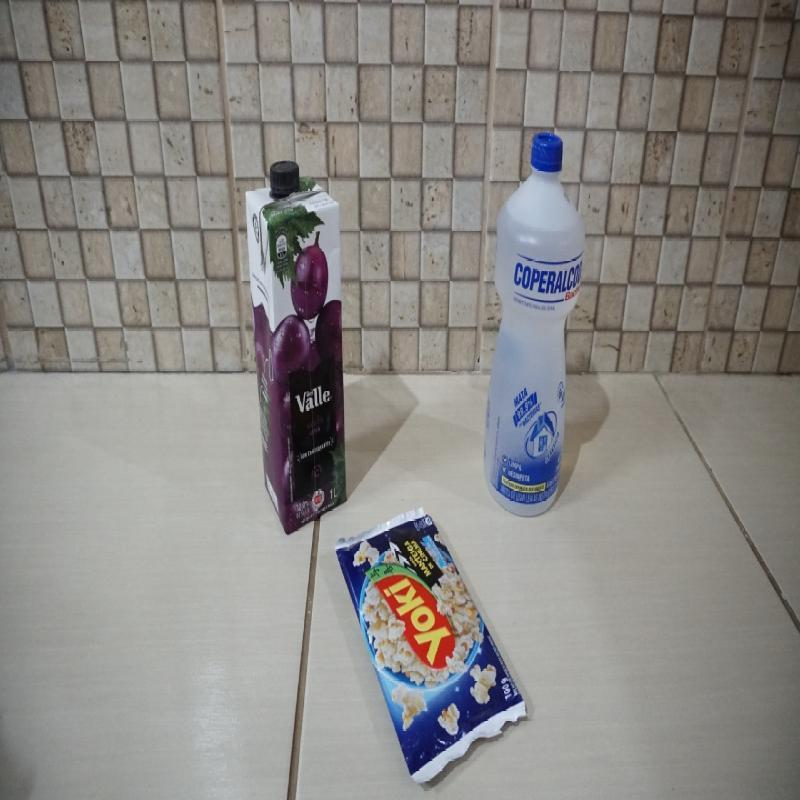Alcohol Bottle: (487, 129, 584, 494)
Popcorn: (338, 505, 524, 776)
